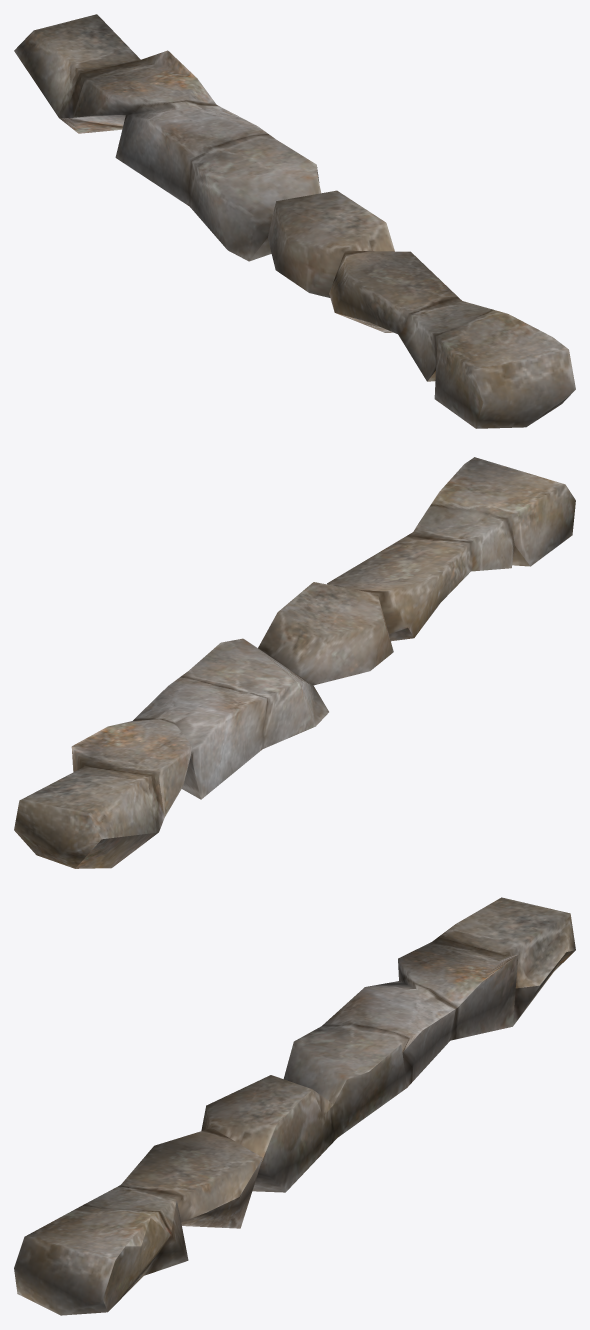
File: SM_CW_Stone.fbx
3 renders of one model, top to bottom at view 1: azimuth 30°, elevation 25°; view 2: azimuth 150°, elevation 25°; view 3: azimuth 330°, elevation 25°, orthographic.
Visible parts, largest first — view 1: SM_CW_Stone; view 2: SM_CW_Stone; view 3: SM_CW_Stone.
Boxes of the visible parts, x1,y1,x2,y2 form: SM_CW_Stone: [14, 14, 575, 428]; SM_CW_Stone: [14, 457, 575, 868]; SM_CW_Stone: [14, 897, 575, 1315].
Bounding box in the file's own units: 97.46 × 781 × 78.47.
Materials: 1 (1 with a texture image).
